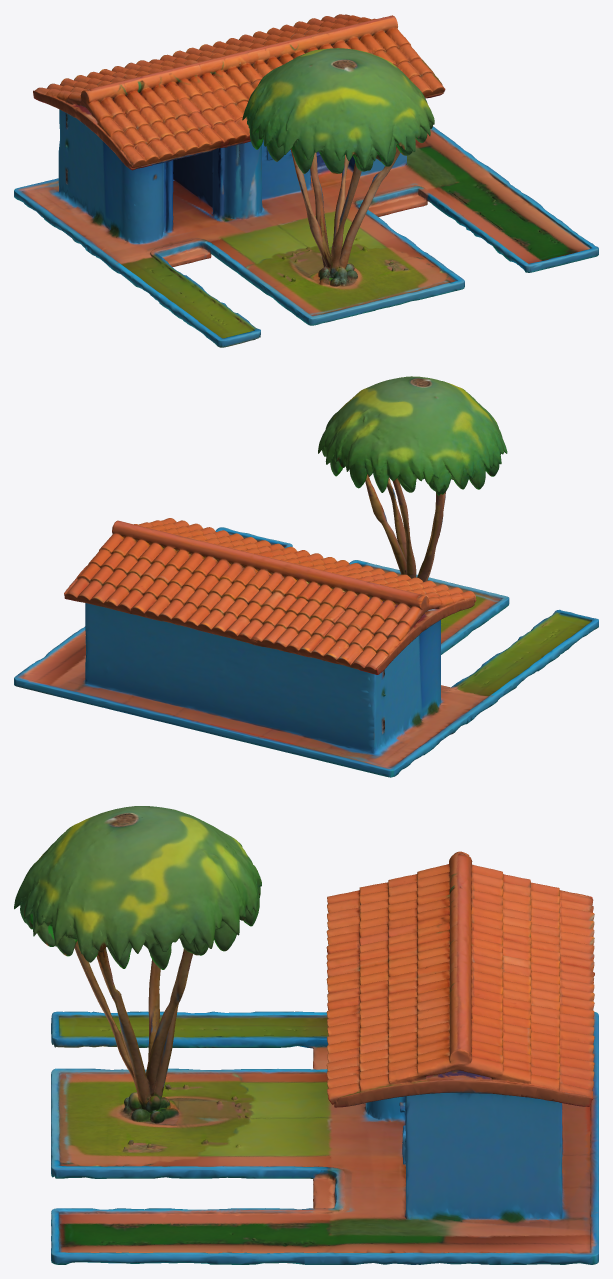
File: Tropical_Restrooms_1003003142_texture.fbx
3 renders of one model, top to bottom at view 1: azimuth 30°, elevation 25°; view 2: azimuth 150°, elevation 25°; view 3: azimuth 270°, elevation 25°, orthographic. The views are drawn at different scales.
Visible parts, largest first — view 1: input; view 2: input; view 3: input.
Boxes of the visible parts, x1=… form: input: x1=14, y1=14, x2=598, y2=347; input: x1=14, y1=376, x2=598, y2=777; input: x1=14, y1=806, x2=598, y2=1264.
Bounding box in the file's own units: 188 × 109 × 190.
Materials: 1 (1 with a texture image).
